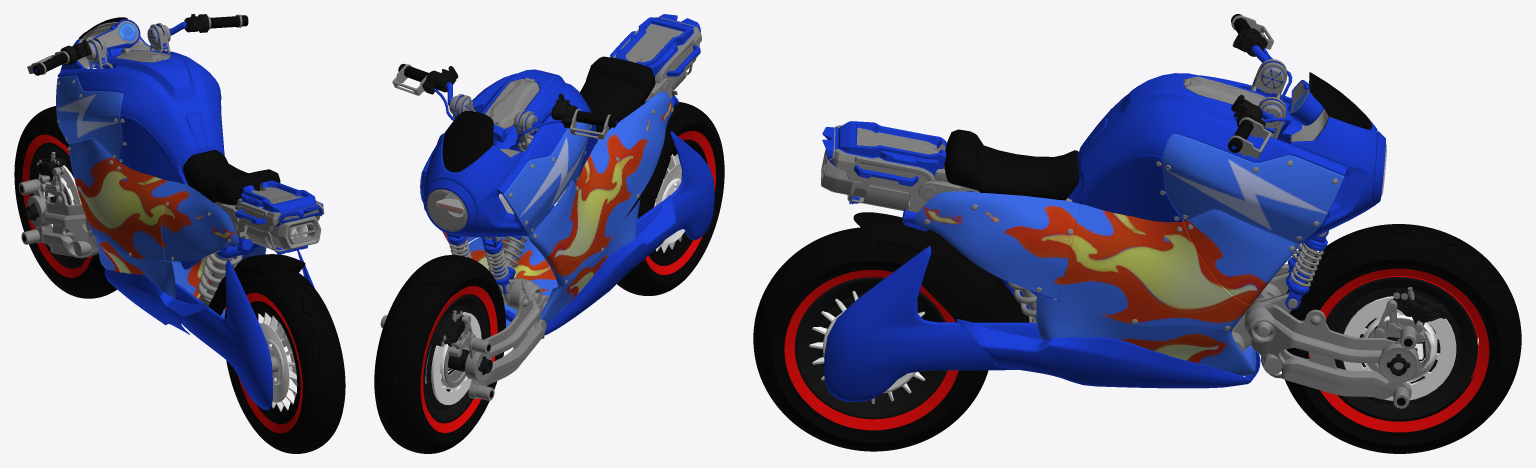
File: nxp_motorcycle.fbx
The picture shows the model from 3 angles, left to right: view 1: azimuth 30°, elevation 25°; view 2: azimuth 150°, elevation 25°; view 3: azimuth 270°, elevation 25°; orthographic projection. The views are drawn at different scales.
Visible parts, largest first — view 1: 车身, 挡板; view 2: 车身, 挡板, 玻璃, 前车灯; view 3: 车身, 挡板.
Part boxes in pixels (bbox=[...]): 车身: bbox=[14, 14, 345, 453]; 挡板: bbox=[56, 22, 266, 318]; 车身: bbox=[374, 14, 724, 453]; 挡板: bbox=[420, 91, 673, 327]; 玻璃: bbox=[426, 189, 467, 231]; 前车灯: bbox=[425, 175, 514, 216]; 车身: bbox=[753, 14, 1521, 453]; 挡板: bbox=[914, 91, 1344, 376].
Bounding box in the file's own units: 87.69 × 123 × 221.
Materials: 5 (2 with a texture image).
